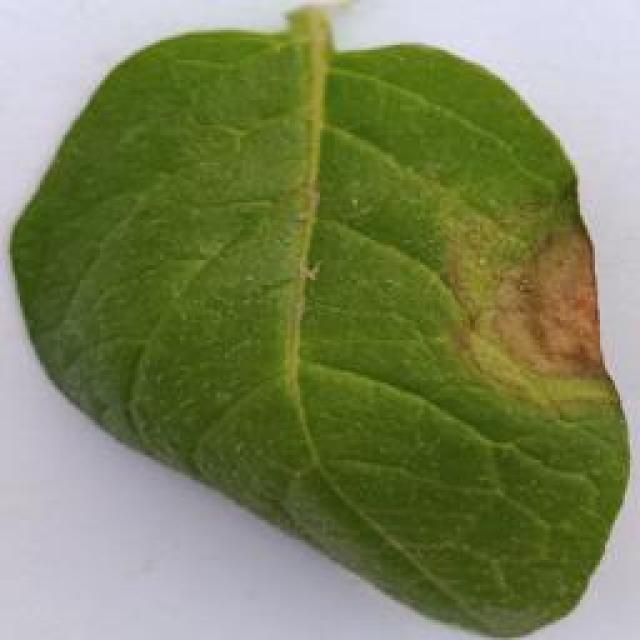Potato_Late_Blight: (11, 12, 618, 637)
